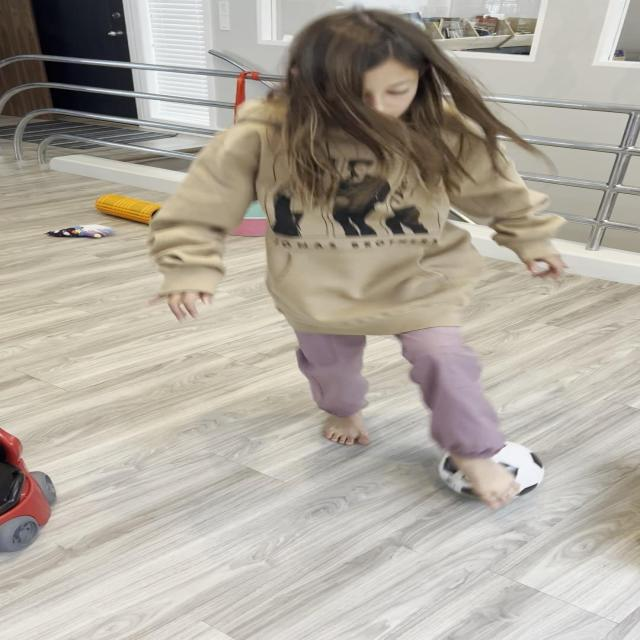Soccer Ball: (438, 440, 544, 501)
